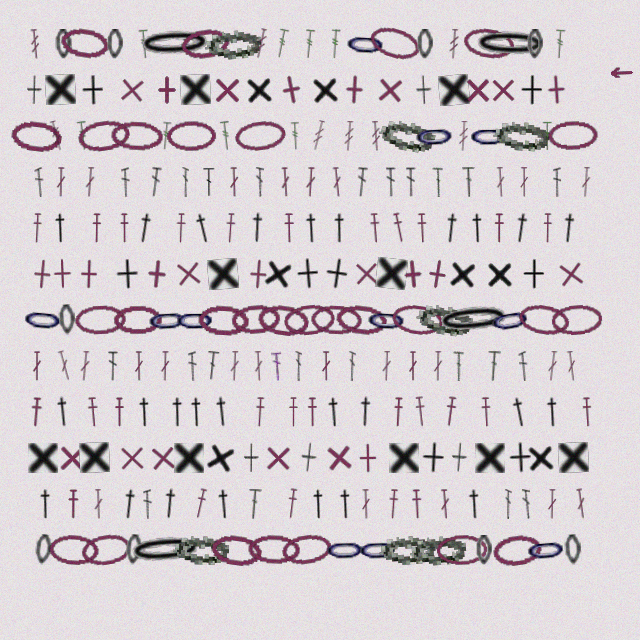chain: (435, 301, 512, 338), (127, 532, 204, 568), (137, 27, 213, 60), (366, 22, 424, 65), (473, 28, 548, 60), (377, 116, 437, 155), (415, 301, 474, 338), (516, 301, 572, 339), (461, 25, 516, 62), (76, 117, 131, 154), (58, 25, 112, 62), (79, 531, 133, 568), (280, 531, 334, 568), (204, 27, 262, 61), (409, 533, 467, 567), (9, 118, 63, 154), (233, 118, 287, 154), (256, 302, 310, 338), (334, 302, 388, 338), (390, 302, 444, 338), (209, 532, 263, 568), (282, 302, 337, 337), (179, 26, 232, 62), (491, 532, 544, 568), (493, 119, 550, 152), (379, 533, 436, 566), (550, 303, 604, 336), (173, 534, 229, 565), (230, 303, 282, 336), (48, 533, 100, 566), (110, 120, 163, 152), (310, 304, 363, 336), (74, 304, 126, 336), (197, 304, 249, 336), (487, 302, 533, 338), (247, 534, 300, 565), (547, 120, 599, 151), (166, 120, 217, 151), (436, 534, 487, 565), (113, 305, 163, 335), (21, 303, 65, 336), (524, 533, 568, 566), (344, 28, 387, 60), (413, 120, 456, 152), (146, 304, 189, 336), (365, 304, 408, 336), (324, 534, 366, 565), (357, 534, 399, 565), (468, 121, 510, 151), (174, 305, 216, 335), (34, 534, 53, 565), (58, 304, 76, 335), (125, 534, 143, 565), (564, 534, 582, 565), (55, 29, 72, 59), (107, 29, 123, 59), (417, 29, 433, 59), (527, 29, 543, 59), (476, 535, 492, 565)
double: (56, 350, 73, 381), (205, 350, 220, 381), (247, 489, 262, 519), (574, 488, 588, 519), (462, 167, 476, 197), (487, 351, 501, 381), (149, 167, 162, 197), (546, 351, 559, 381), (565, 351, 578, 381), (84, 167, 96, 197), (203, 167, 215, 197), (331, 167, 343, 197), (356, 167, 368, 197), (580, 167, 592, 197), (79, 351, 91, 381), (271, 351, 283, 381), (452, 351, 464, 381), (439, 489, 451, 519), (34, 167, 45, 197), (280, 167, 291, 197), (305, 167, 316, 197), (432, 167, 443, 197), (495, 167, 506, 197), (229, 351, 240, 381), (253, 351, 264, 381), (381, 351, 392, 381), (518, 351, 529, 381), (93, 489, 104, 519), (56, 167, 66, 197), (229, 167, 239, 197), (386, 167, 396, 197), (406, 167, 416, 197), (519, 167, 529, 197), (32, 351, 42, 381), (108, 351, 118, 381), (134, 351, 144, 381), (160, 351, 170, 381), (321, 351, 331, 381), (408, 351, 418, 381), (433, 351, 443, 381), (361, 489, 371, 519), (547, 489, 557, 519), (121, 167, 130, 197), (255, 167, 264, 197), (188, 351, 197, 381), (143, 489, 152, 519), (522, 489, 531, 519), (553, 167, 561, 197), (348, 351, 356, 381), (504, 489, 512, 519), (182, 167, 189, 197), (295, 351, 302, 381)
half_double: (134, 212, 156, 244), (192, 212, 214, 244), (441, 212, 462, 244), (511, 212, 532, 244), (509, 396, 530, 428), (119, 488, 140, 520), (559, 212, 579, 244), (160, 488, 180, 519), (248, 212, 267, 243), (356, 396, 375, 427), (54, 396, 72, 427), (213, 396, 231, 427), (325, 397, 343, 427), (215, 489, 233, 519), (192, 488, 209, 519), (52, 213, 69, 243), (303, 213, 320, 243), (331, 213, 348, 243), (469, 213, 486, 243), (136, 397, 153, 427), (169, 397, 186, 427), (188, 397, 205, 427), (544, 397, 561, 427), (37, 489, 54, 519), (310, 489, 327, 519), (337, 489, 354, 519), (466, 489, 483, 519), (391, 212, 407, 243), (413, 396, 428, 427), (443, 396, 458, 427), (285, 488, 299, 519), (368, 213, 382, 243), (29, 397, 43, 427), (86, 397, 100, 427), (224, 213, 237, 243), (387, 489, 400, 519), (31, 213, 43, 243), (175, 213, 187, 243), (283, 213, 295, 243), (416, 213, 428, 243), (493, 213, 505, 243), (254, 397, 266, 427), (392, 397, 404, 427), (480, 397, 492, 427), (581, 397, 593, 427), (67, 489, 79, 519), (411, 489, 423, 519), (91, 213, 102, 243), (119, 213, 130, 243), (542, 213, 553, 243), (114, 397, 125, 427), (288, 397, 299, 427), (307, 397, 318, 427)
noise: (608, 67, 633, 78)
single: (274, 72, 309, 107), (204, 440, 238, 475), (420, 257, 454, 291), (554, 257, 588, 291), (262, 256, 295, 291), (172, 257, 205, 290), (375, 257, 408, 290), (323, 441, 355, 474), (116, 74, 148, 106), (374, 74, 406, 106), (438, 74, 470, 106), (26, 258, 58, 290), (141, 258, 173, 290), (207, 258, 239, 290), (242, 258, 274, 290), (147, 442, 179, 474), (397, 258, 428, 290), (45, 74, 76, 105), (180, 74, 211, 105), (339, 74, 370, 105), (541, 74, 572, 105), (47, 258, 78, 289), (351, 258, 382, 289), (79, 442, 110, 473), (558, 442, 589, 473), (448, 258, 478, 290), (526, 442, 556, 473), (152, 75, 182, 105), (212, 75, 242, 105), (488, 75, 518, 105), (74, 259, 104, 289), (28, 443, 58, 473), (57, 443, 87, 473), (117, 443, 147, 473), (174, 443, 204, 473), (263, 443, 293, 473), (353, 443, 383, 473), (389, 443, 419, 473), (475, 443, 505, 473), (245, 74, 274, 105), (311, 74, 340, 105), (323, 257, 350, 290), (463, 75, 492, 105), (486, 259, 514, 289), (295, 258, 320, 289), (421, 442, 445, 473), (508, 442, 532, 473), (115, 259, 139, 289), (81, 75, 104, 105), (520, 75, 543, 105), (522, 259, 545, 289), (300, 442, 318, 473), (451, 442, 468, 473), (416, 75, 432, 105), (27, 75, 42, 105), (244, 443, 259, 473)
treble: (48, 120, 65, 151), (310, 120, 327, 151), (253, 28, 269, 59), (274, 28, 290, 59), (76, 120, 90, 151), (219, 120, 233, 151), (138, 29, 151, 59), (303, 29, 316, 59), (29, 29, 41, 59), (329, 29, 341, 59), (448, 29, 460, 59), (554, 29, 566, 59), (160, 121, 172, 151), (343, 121, 355, 151), (370, 121, 382, 151), (290, 121, 301, 151), (458, 121, 469, 151), (542, 121, 553, 151)
